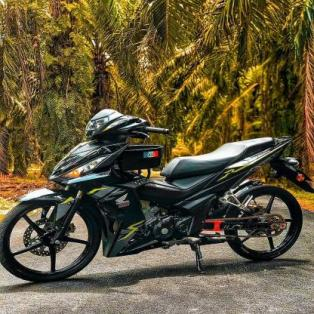Motocicleta: (1, 104, 312, 285)
